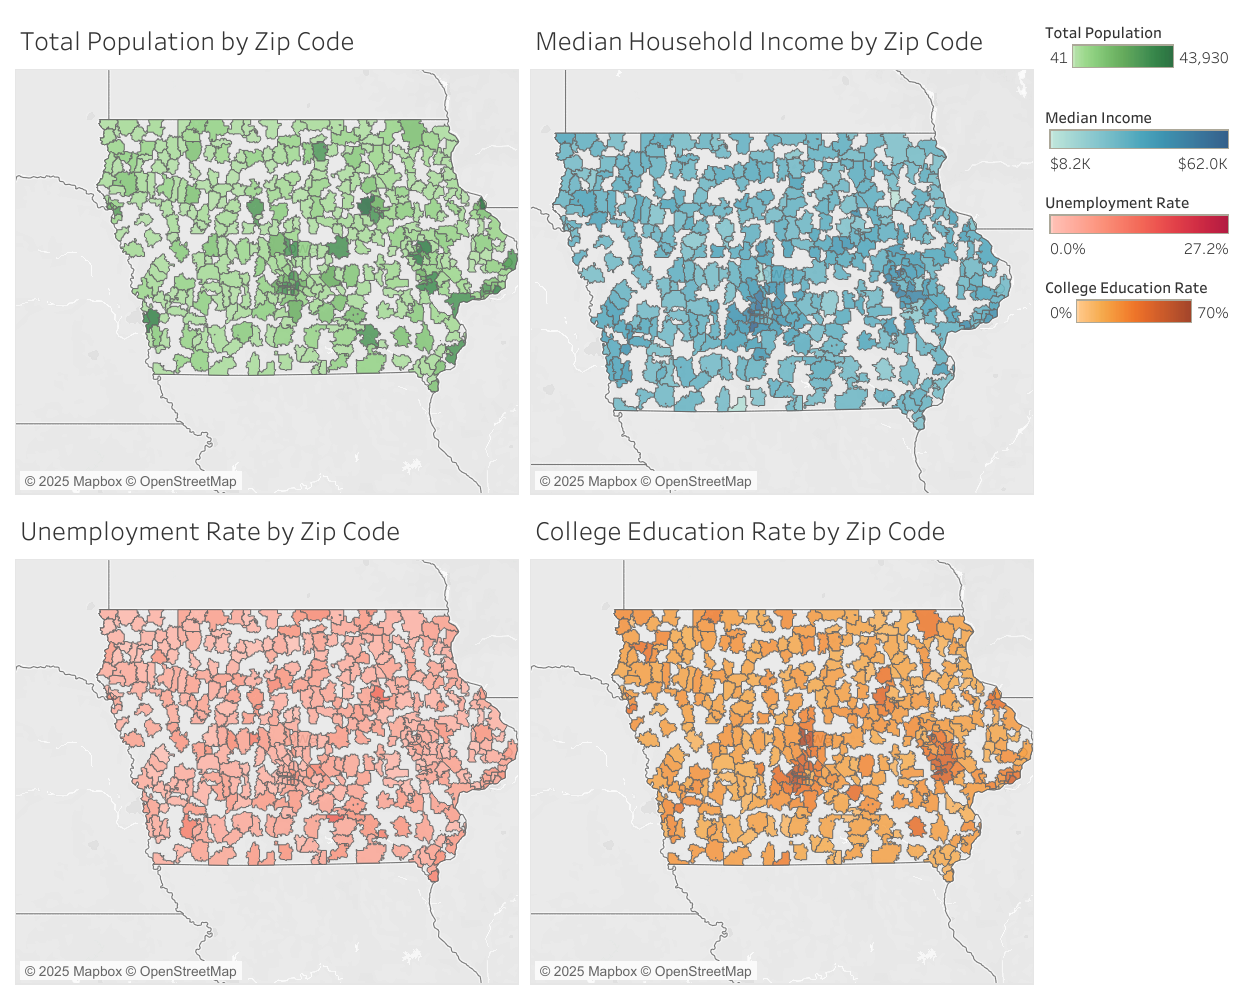

The dashboard page shown, as its layout file describes it:
{"tool":"tableau","page":{"name":"Demographic Maps","canvas":[1000,800],"ordinal":1},"visuals":[{"type":"worksheet","title":"Total Population by Zip Code","mark":"Automatic","box":[8,8,412,392]},{"type":"worksheet","title":"Median Household Income by Zip Code","mark":"Automatic","box":[420,8,412,392]},{"type":"legend","title":"Total Population by Zip Code","param":"[federated.160dr690cwzs2j1aq9tm2014iqfz].[sum:population:qk]","box":[832,8,160,65]},{"type":"legend","title":"Median Household Income by Zip Code","param":"[federated.160dr690cwzs2j1aq9tm2014iqfz].[sum:income:qk]","box":[832,73,160,65]},{"type":"legend","title":"Unemployment Rate by Zip Code","param":"[federated.160dr690cwzs2j1aq9tm2014iqfz].[sum:unemployment:qk]","box":[832,138,160,65]},{"type":"legend","title":"College Education Rate by Zip Code","param":"[federated.160dr690cwzs2j1aq9tm2014iqfz].[sum:bachelor:qk]","box":[832,203,160,65]},{"type":"worksheet","title":"Unemployment Rate by Zip Code","mark":"Automatic","box":[8,400,412,392]},{"type":"worksheet","title":"College Education Rate by Zip Code","mark":"Automatic","box":[420,400,412,392]}]}

Visuals, with their boxes in screenshot pixels (x1, y1, x2, y2), scaled from the page's 1000x800 canvas onto the 1249x999 screenshot:
"Total Population by Zip Code" worksheet: x1=10 y1=10 x2=525 y2=500
"Median Household Income by Zip Code" worksheet: x1=525 y1=10 x2=1039 y2=500
"Total Population by Zip Code" legend: x1=1039 y1=10 x2=1239 y2=91
"Median Household Income by Zip Code" legend: x1=1039 y1=91 x2=1239 y2=172
"Unemployment Rate by Zip Code" legend: x1=1039 y1=172 x2=1239 y2=253
"College Education Rate by Zip Code" legend: x1=1039 y1=253 x2=1239 y2=335
"Unemployment Rate by Zip Code" worksheet: x1=10 y1=500 x2=525 y2=989
"College Education Rate by Zip Code" worksheet: x1=525 y1=500 x2=1039 y2=989
